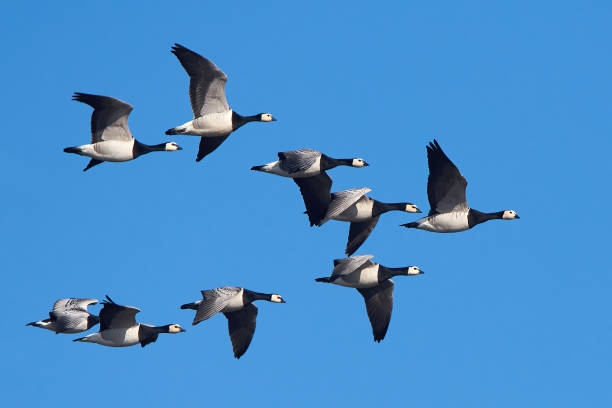Bird: (163, 38, 279, 162), (401, 137, 522, 232), (62, 88, 184, 173), (249, 147, 370, 228), (313, 256, 428, 341), (179, 283, 290, 361), (321, 185, 424, 259), (75, 294, 188, 351), (21, 292, 104, 335)
